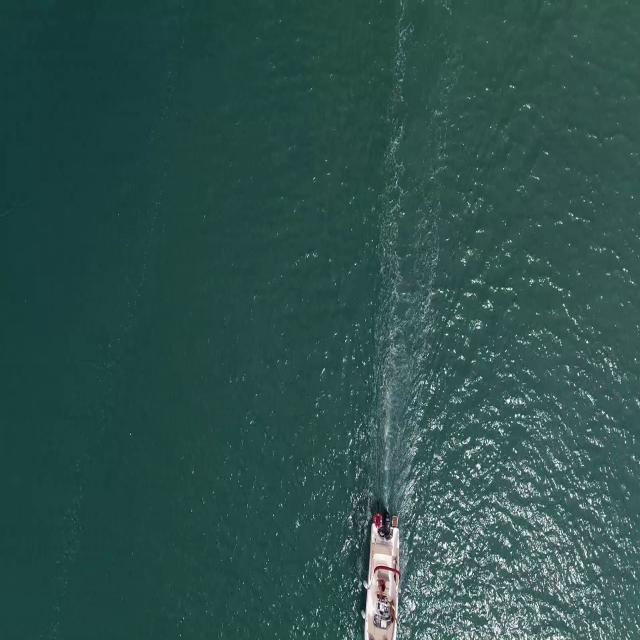boat: (360, 524, 401, 640)
life_buoy: (374, 510, 385, 529)
person: (378, 578, 388, 602), (388, 604, 398, 626)
